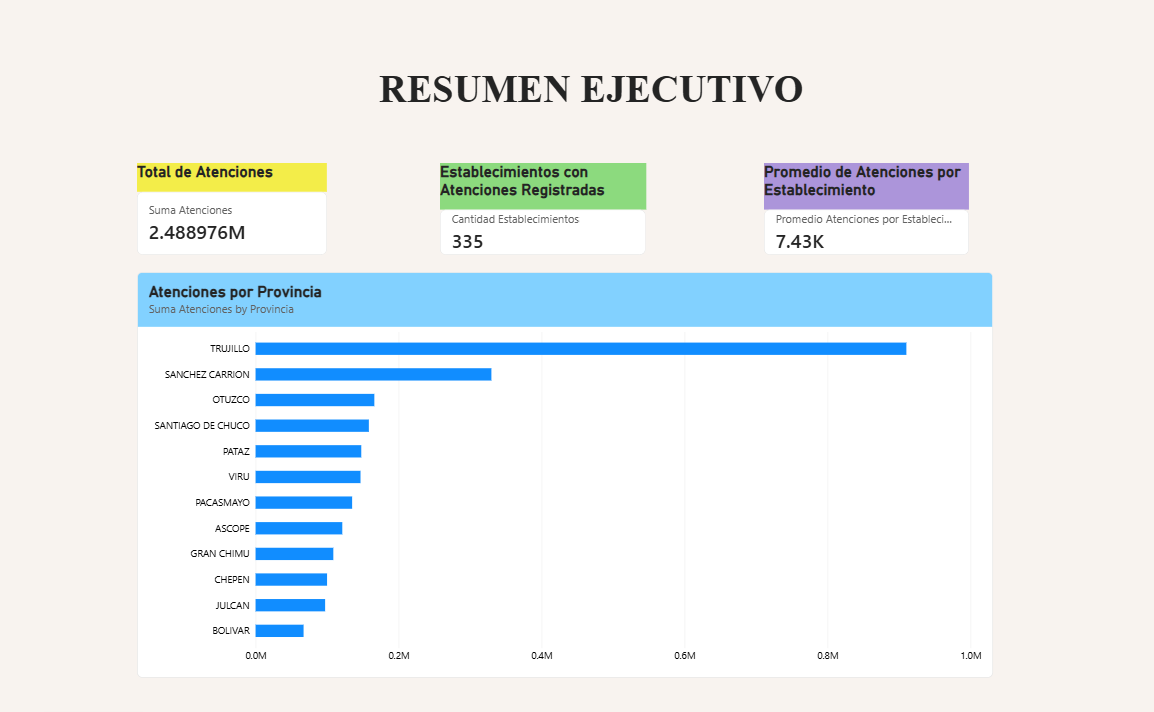

What the dashboard file says about the page in this screenshot:
{"tool":"powerbi","page":{"name":"Resumen Ejecutivo","canvas":[1920,1080],"ordinal":0},"visuals":[{"type":"cardVisual","title":"Total de Atenciones","fields":{"Data":["Fact Atenciones.Suma Atenciones"]},"box":[354.5,258.2,277.2,134.2],"z":0},{"type":"cardVisual","title":"Establecimientos con Atenciones Registradas","fields":{"Data":["Cantidad Establecimientos.Cantidad Establecimientos"]},"box":[796.6,258.2,300.5,134.2],"z":1000},{"type":"cardVisual","title":"Promedio de Atenciones por Establecimiento","fields":{"Data":["Measures.Promedio Atenciones por Establecimiento"]},"box":[1269.3,258.2,299.1,134.2],"z":2000},{"type":"clusteredBarChart","title":"Atenciones por Provincia","fields":{"Category":["Dim Establecimiento.Provincia"],"Y":["Fact Atenciones.Suma Atenciones"]},"box":[354.5,417.3,1249,592.2],"z":3000},{"type":"textbox","box":[707.6,118.2,688.6,71.5],"z":3001}]}

Visuals, with their boxes on the page's 1920x1080 design canvas (x1, y1, x2, y2). These are canvas units, not pixel positions in the 1154x712 screenshot, which may show the page scaled, cropped or inside an application window:
"Total de Atenciones" cardVisual: box(354, 258, 632, 392)
"Establecimientos con Atenciones Registradas" cardVisual: box(797, 258, 1097, 392)
"Promedio de Atenciones por Establecimiento" cardVisual: box(1269, 258, 1568, 392)
"Atenciones por Provincia" clusteredBarChart: box(354, 417, 1604, 1010)
textbox: box(708, 118, 1396, 190)
